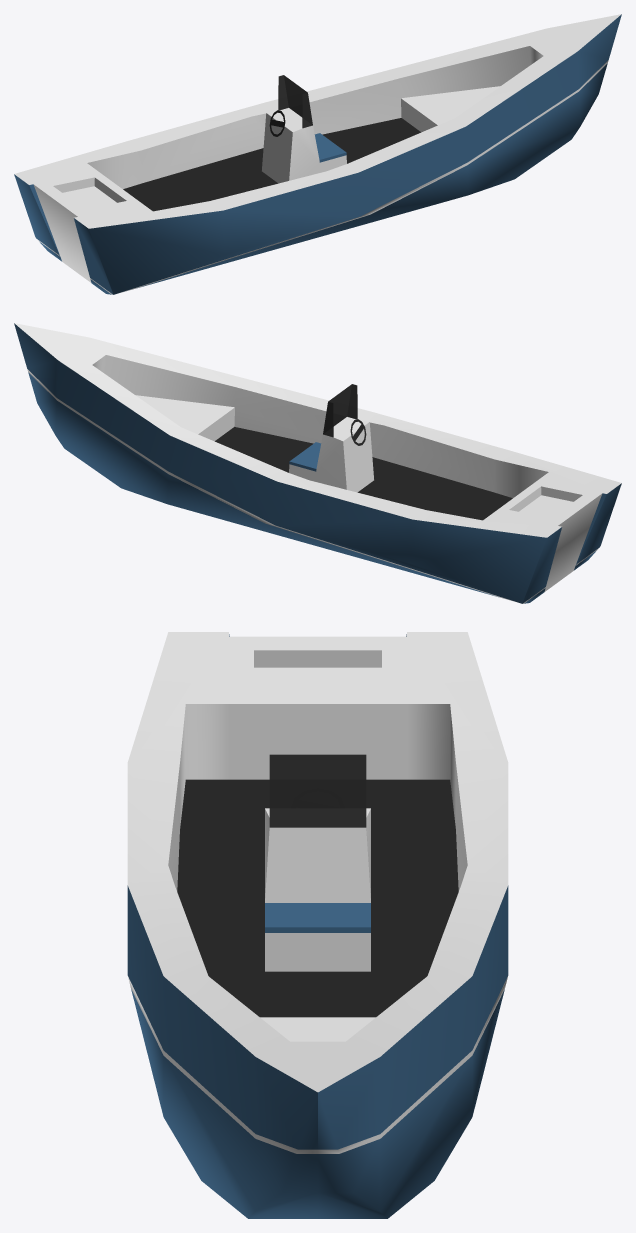
File: Water_Powerboat.dae
The picture shows the model from 3 angles, top to bottom: view 1: azimuth 30°, elevation 25°; view 2: azimuth 150°, elevation 25°; view 3: azimuth 270°, elevation 25°; orthographic projection. The views are drawn at different scales.
Parts seen in each view (by area): view 1: boat_half (×10); view 2: boat_half (×10); view 3: boat_half (×14).
Part boxes in pixels (box(x1,y1,x2,y2)): boat_half (×10): box(14, 14, 621, 294); boat_half (×10): box(14, 323, 621, 603); boat_half (×14): box(127, 632, 508, 1218).
Size of the model in its own units: 273 by 78.83 by 61.87.
